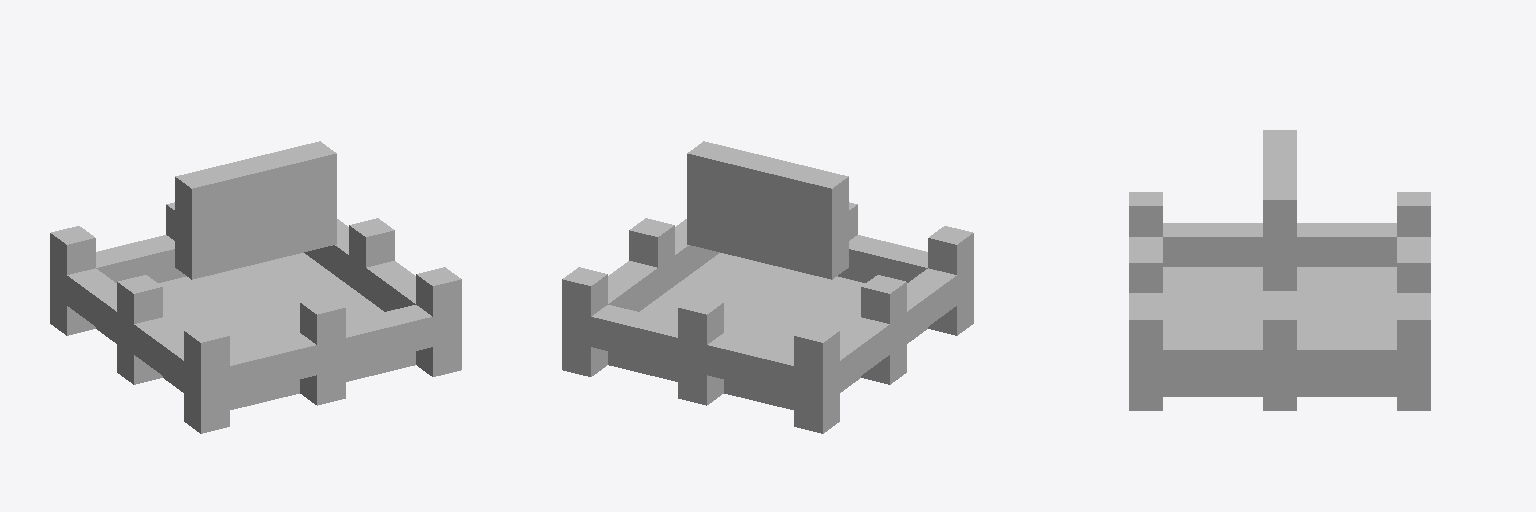
The model's file is Locked 100.obj.
The picture shows the model from 3 angles: view 1: azimuth 30°, elevation 25°; view 2: azimuth 150°, elevation 25°; view 3: azimuth 270°, elevation 25°; orthographic projection.
Parts seen in each view (by area): view 1: object 1; view 2: object 1; view 3: object 1.
Part boxes in pixels (x1,y1,x2,y2): object 1: (50,141,461,433); object 1: (562,141,973,433); object 1: (1129,130,1430,410).
Bounding box in the file's own units: 0.9 × 0.6 × 0.9.